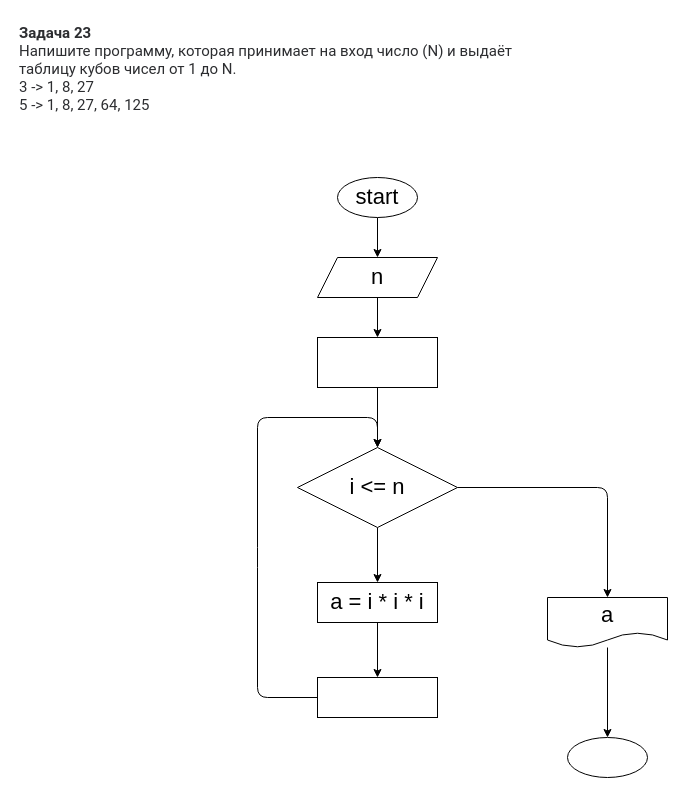
Image size: 685x795. Some labels were removed from this diagram. The shapes that lost their labels are listed below. From the top down, each one's centre as x and y in pixels, then its label:
point 377,362: a = 0 i = 1
point 377,697: i++
point 607,757: end
